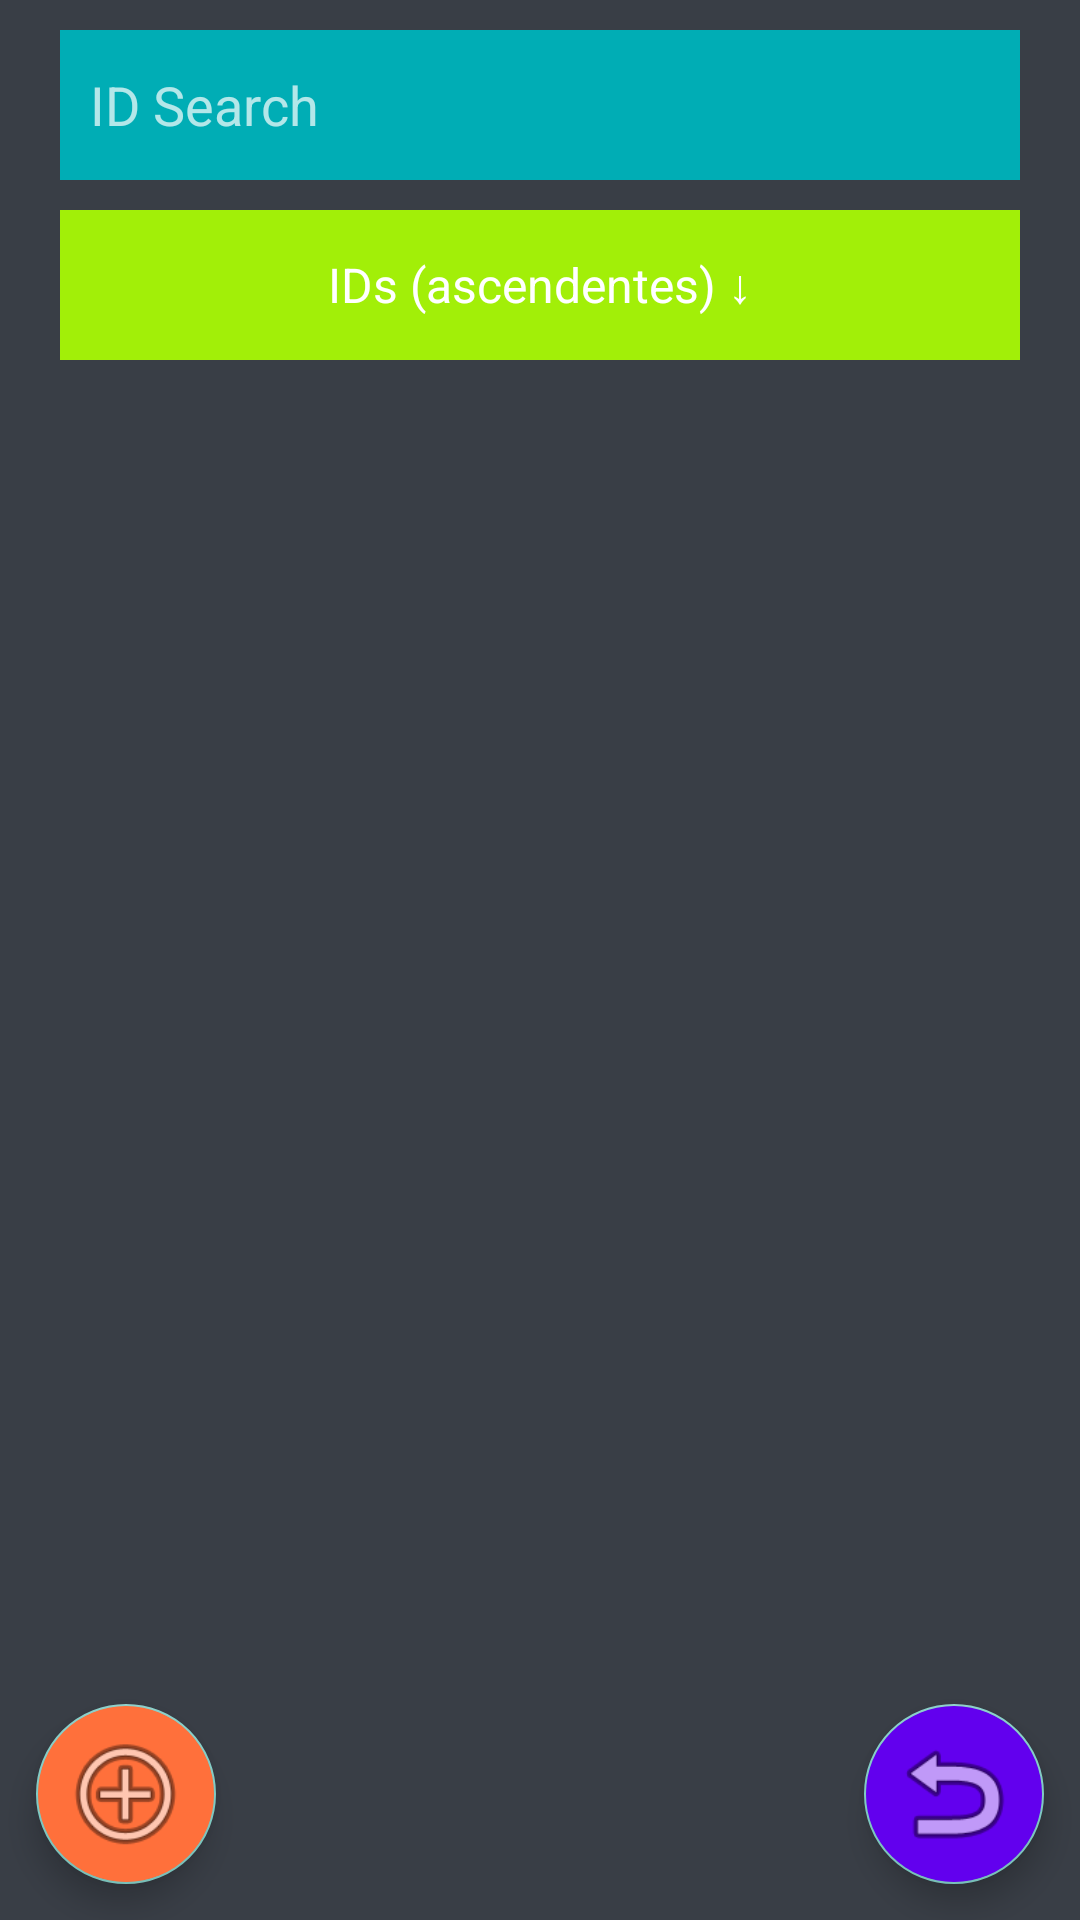

Icon bounding boxes for this 1080px×1920px phone screenshot, format (x1, y1, x2, y2):
Add Button: (36, 1704, 216, 1884)
